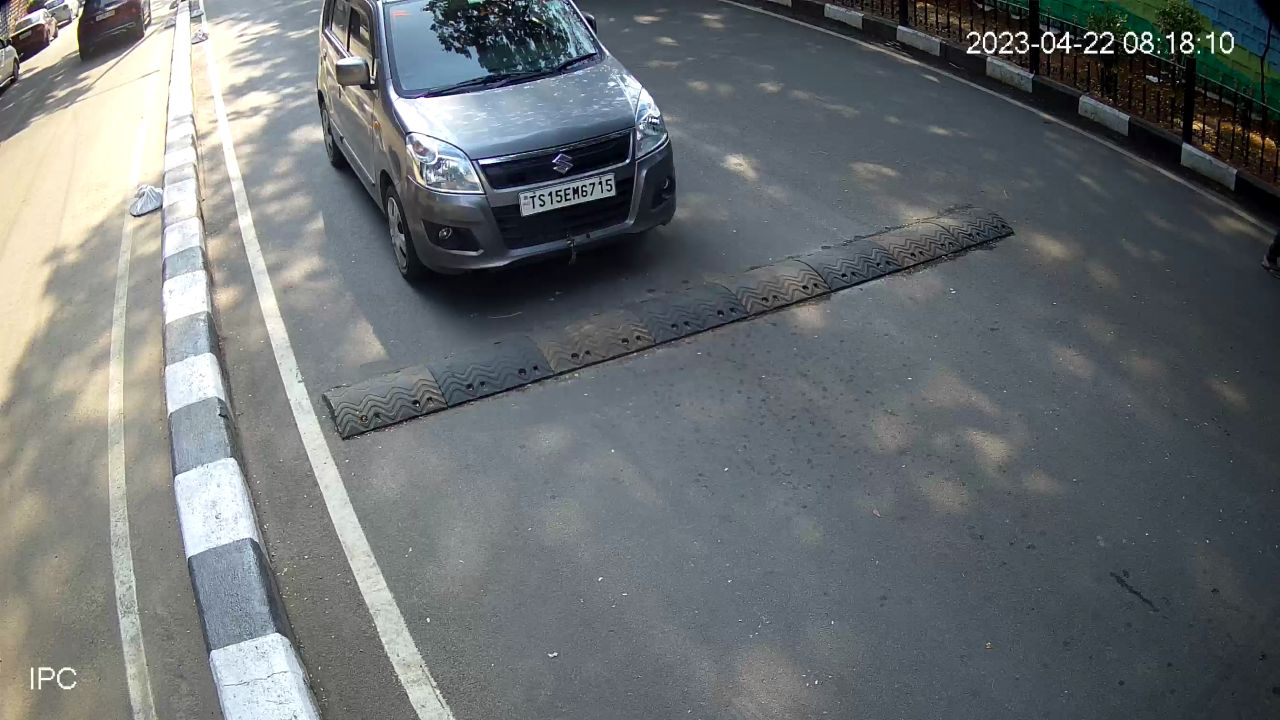license_plate: (516, 167, 622, 224)
